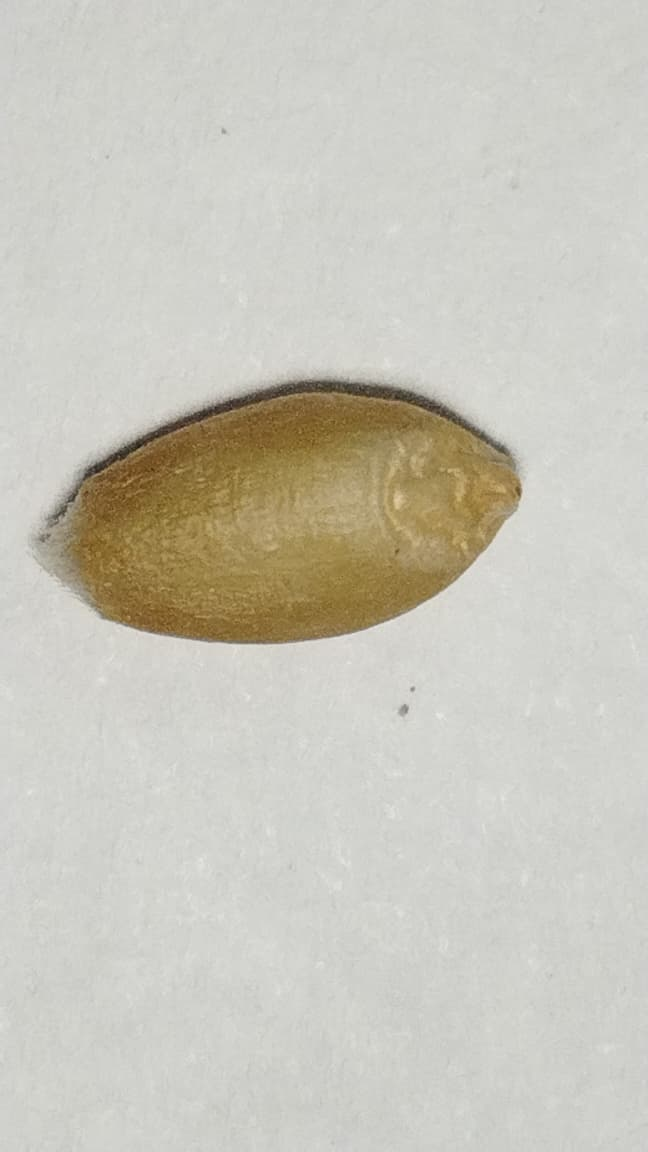healthy: (66, 384, 520, 641)
